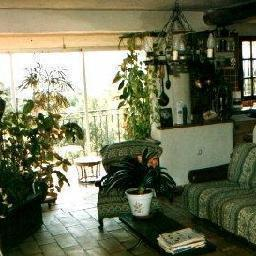Matera: (4, 107, 42, 243)
